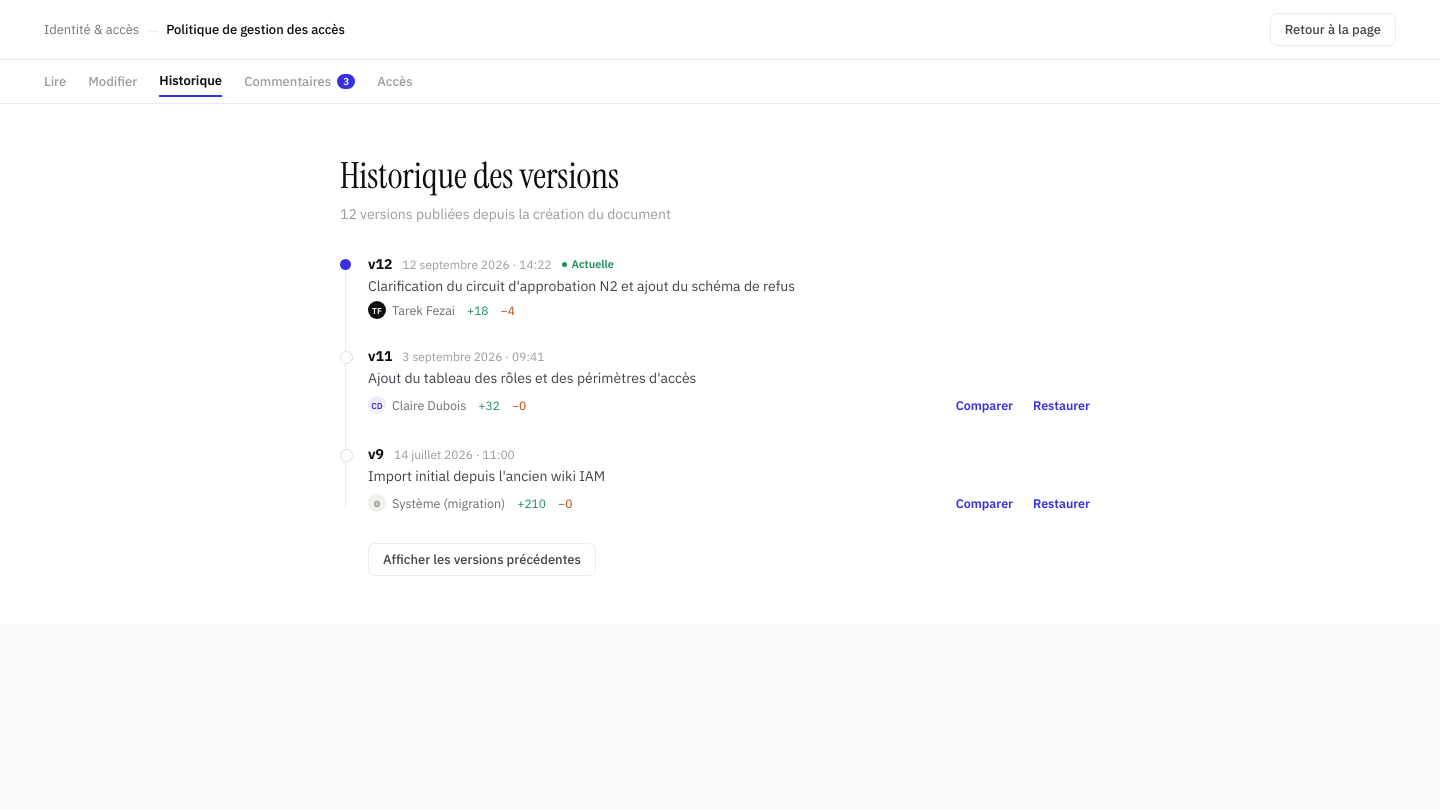
Scenario: DocumentHistoryPage › échec de la restauration : message dans la modale (409 explicite)
Click the button "Restaurer" in the row of "+32" at (1062,405), box [1023,393,1100,417]
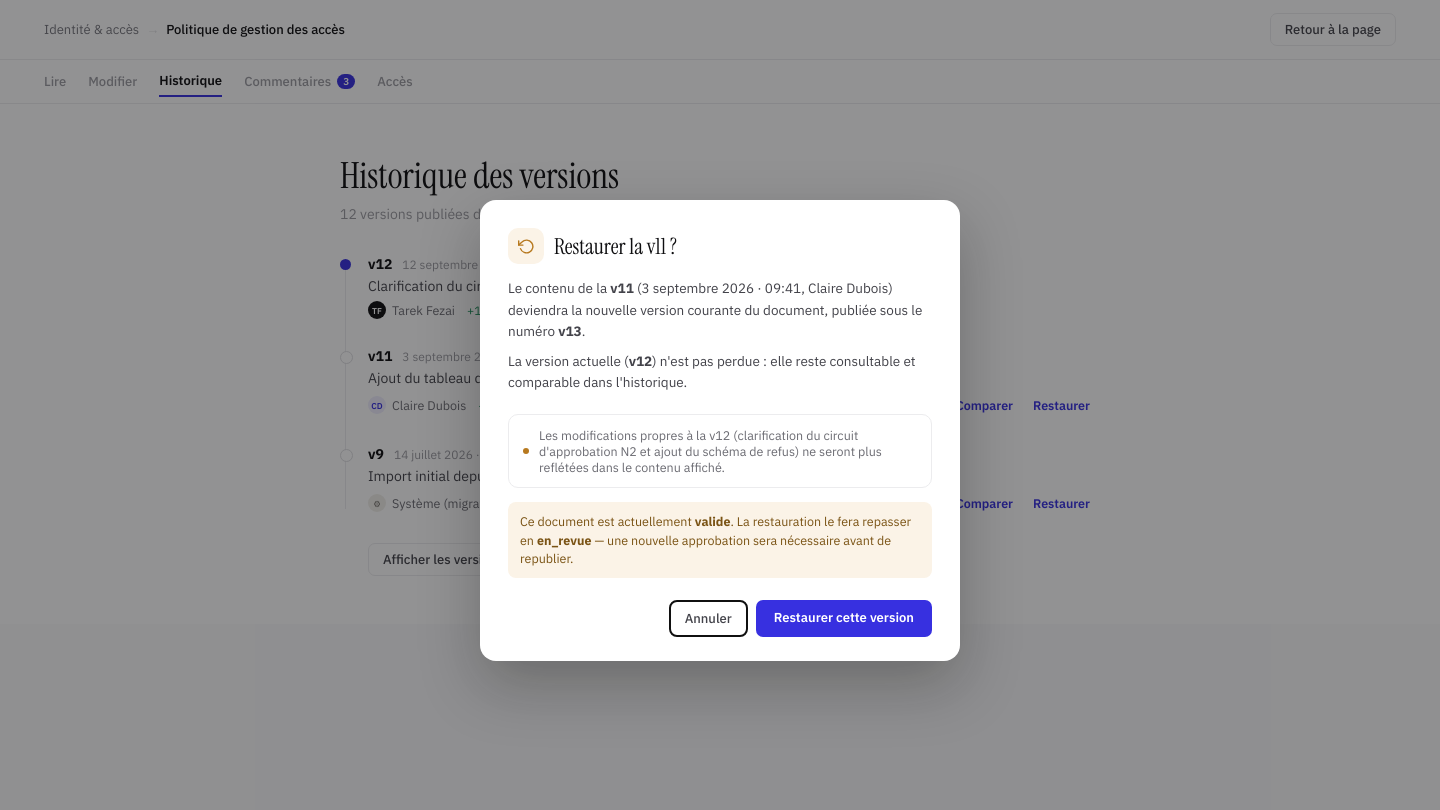
Click the button with test id "restore-confirm" at (844,619), box [756,600,932,637]
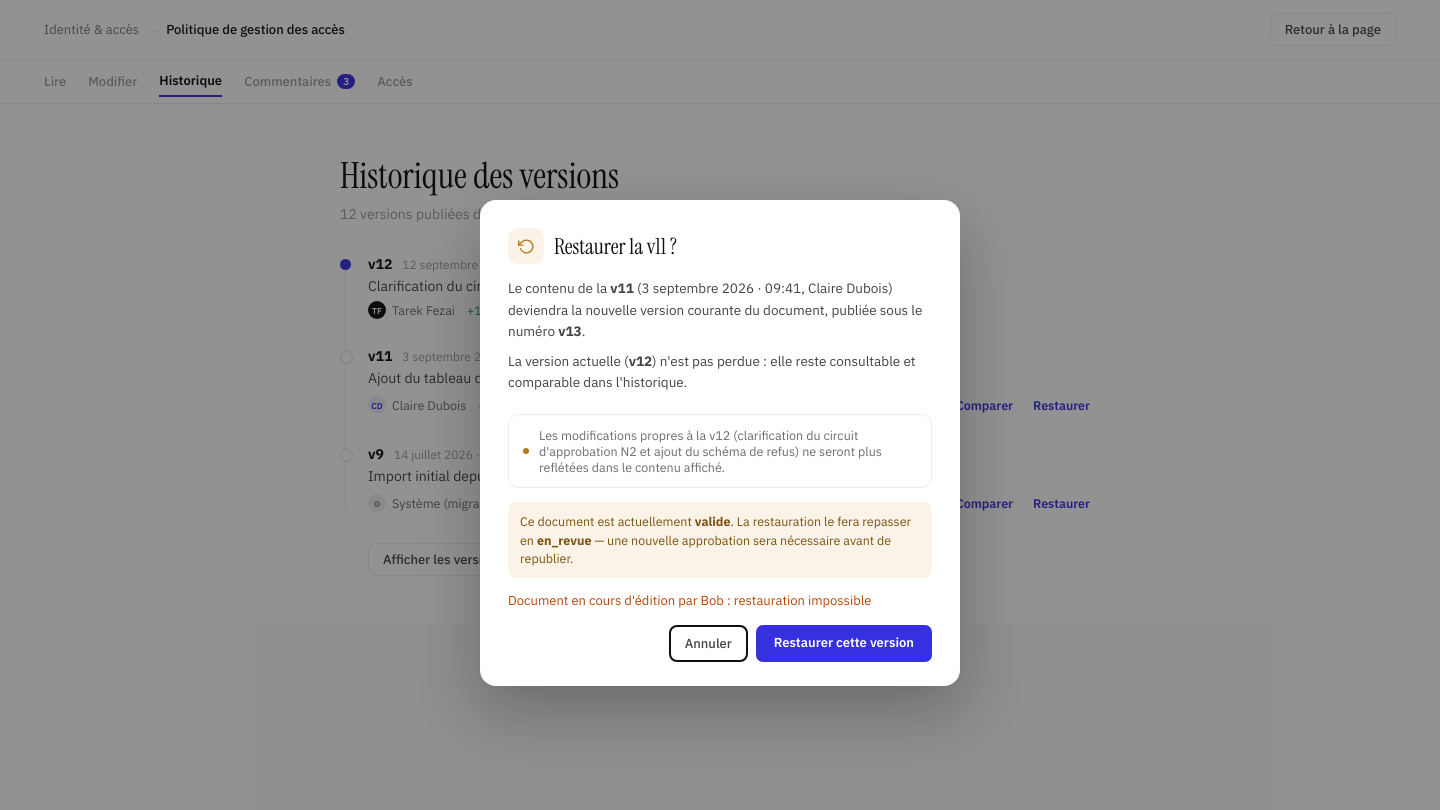
Now the dialog is shown, box [480,200,960,686]
Now the message "Document en cours d'édition par Bob : restauration impossible" is shown, box [508,592,932,609]
Now the message with test id "restore-error" shows "édition par Bob", box [508,592,871,609]
